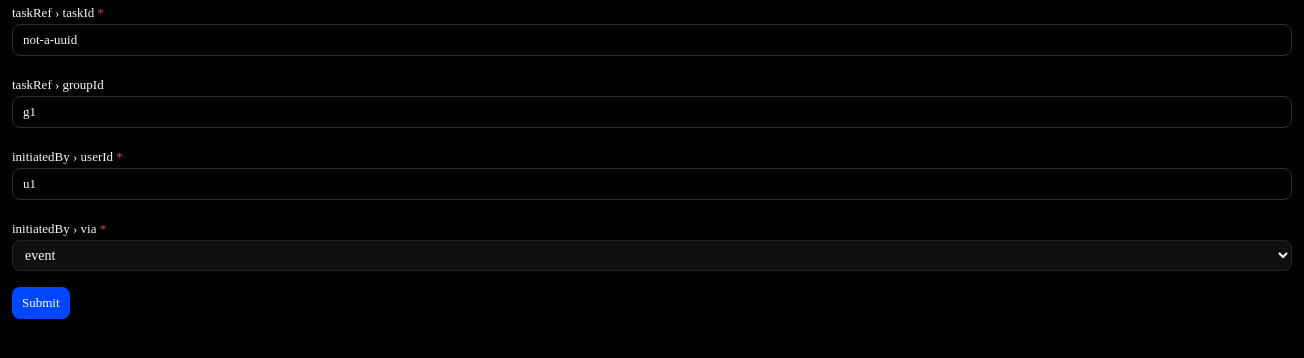
Scenario: InputFormFromSchema › marks invalid uuid input as invalid and prevents submit
Click the button "Submit". click: (41, 303)
box: top-left (12, 287), bottom-right (70, 319)
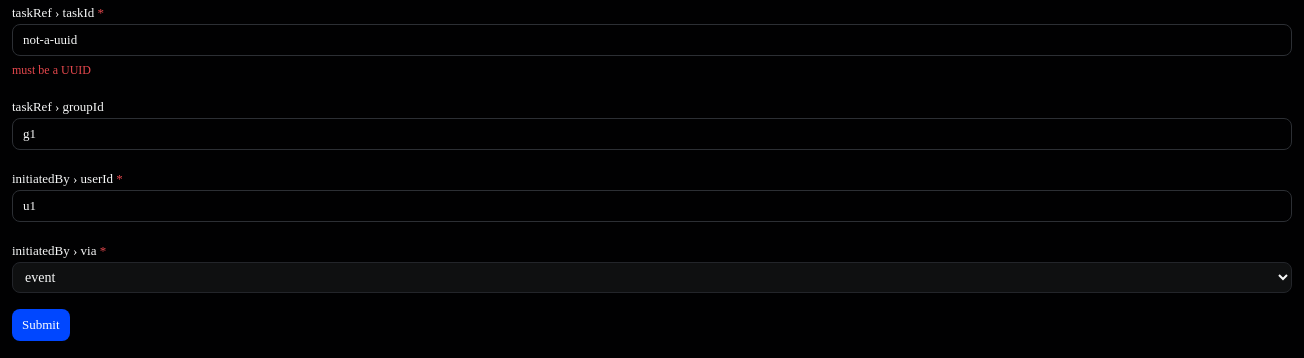
Check: the text "must be a UUID" is shown, box top-left (12, 63), bottom-right (91, 77)
